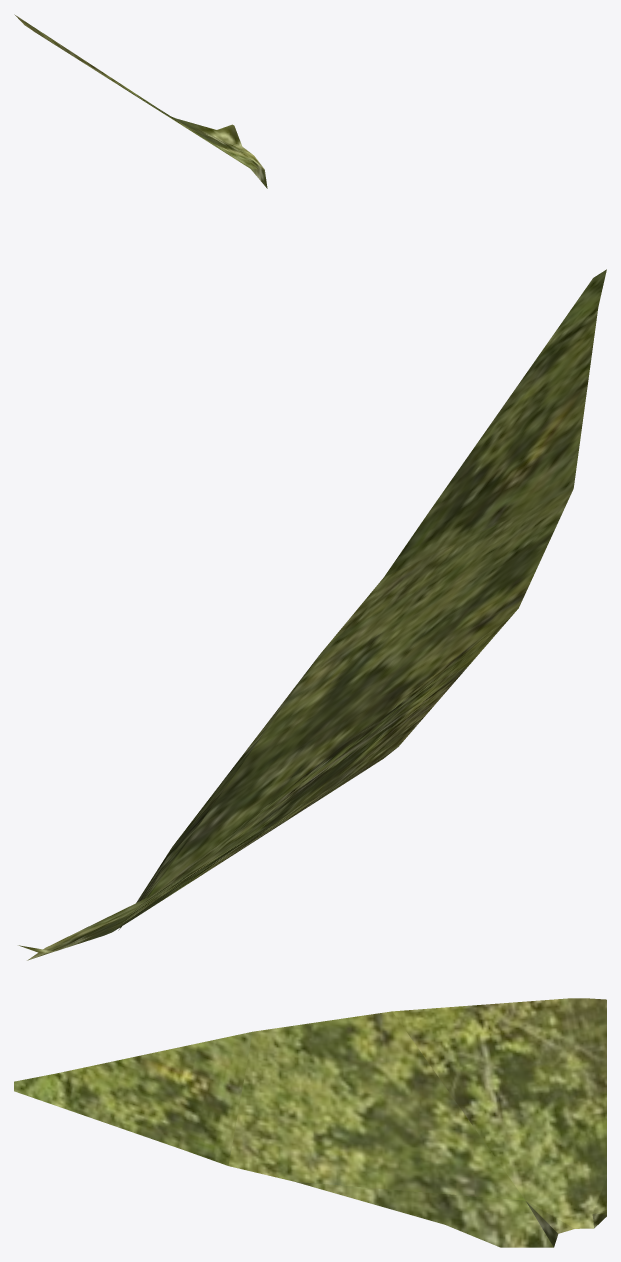
3 views of the same model, one above another, from view 1: azimuth 30°, elevation 25°; view 2: azimuth 150°, elevation 25°; view 3: azimuth 270°, elevation 25° (orthographic). The views are drawn at different scales.
Size of the model in its own units: 2.05 by 1.79 by 5.9.
Materials: 1 (1 with a texture image).
